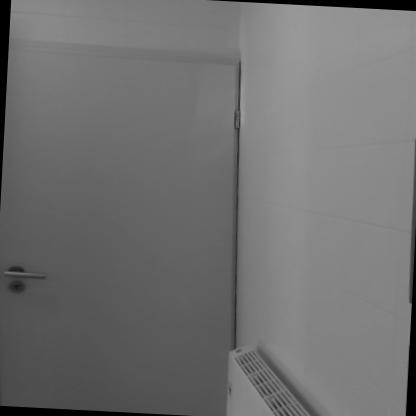closed: (0, 29, 254, 416)
